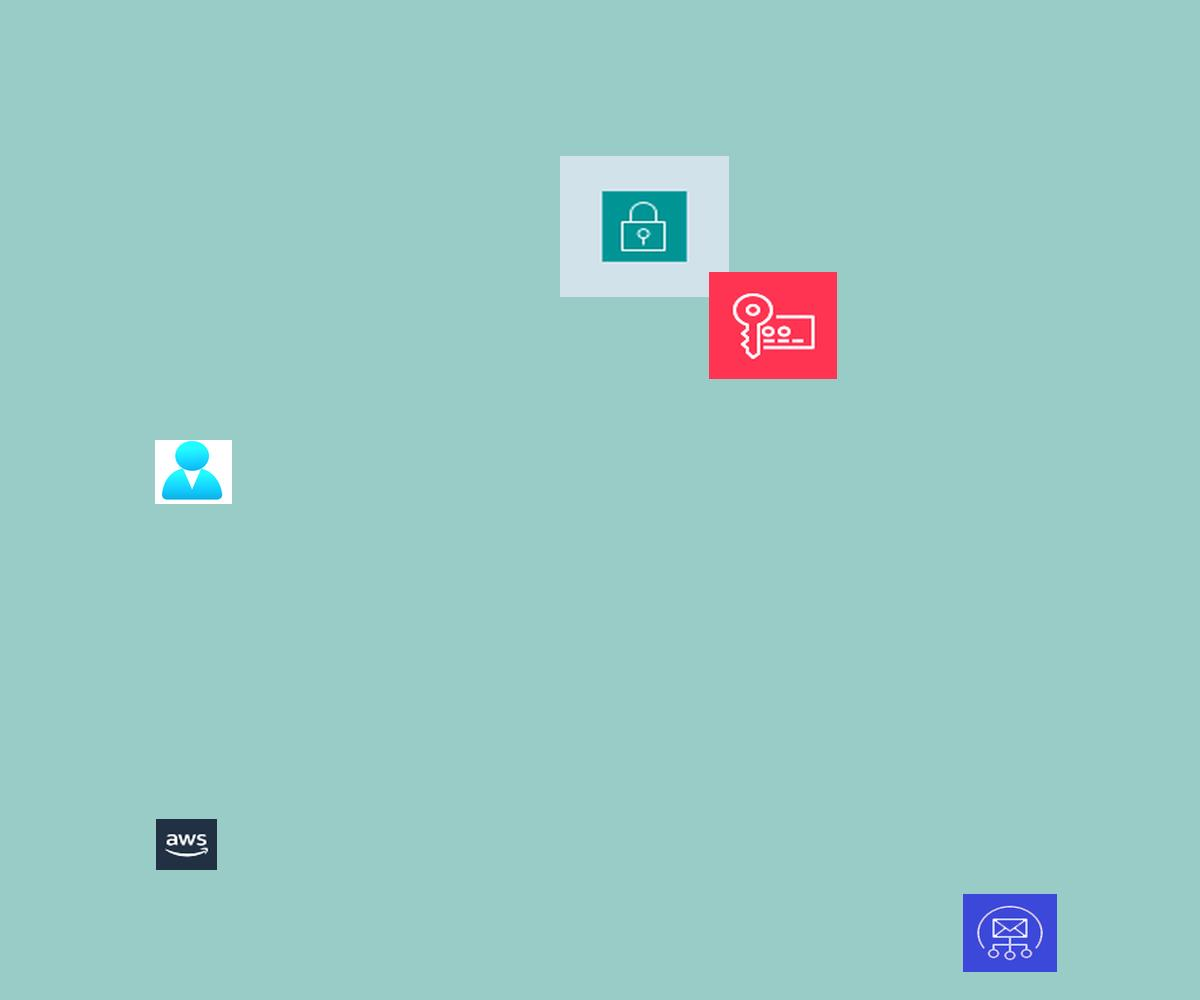AWS-Cloud-logo: (156, 819, 217, 870)
AWS-Key-Management-Service: (709, 272, 837, 379)
AWS-Private-subnet: (560, 156, 729, 297)
AWS-Simple-Email-Service: (963, 894, 1057, 972)
Azure_users: (155, 440, 232, 504)
